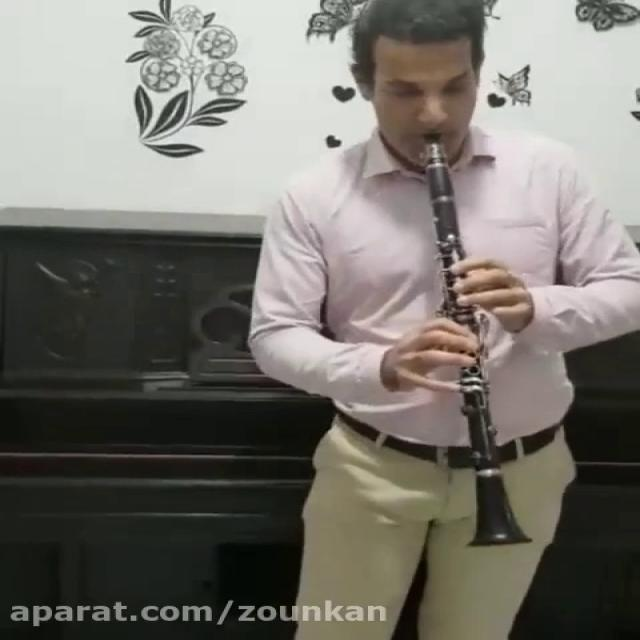Clarinet: (416, 139, 557, 565)
